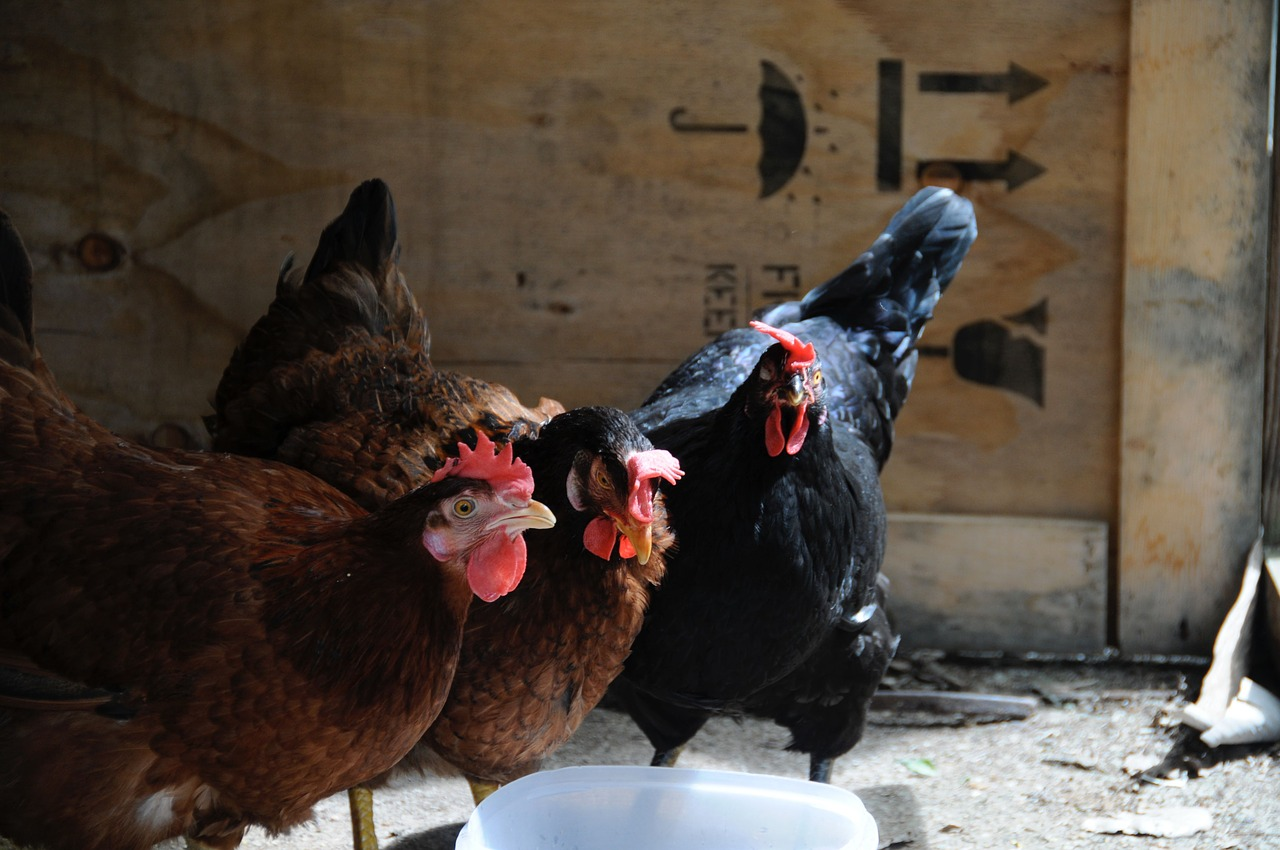chicken: (1, 320, 570, 777), (271, 192, 662, 765), (642, 187, 943, 782)
